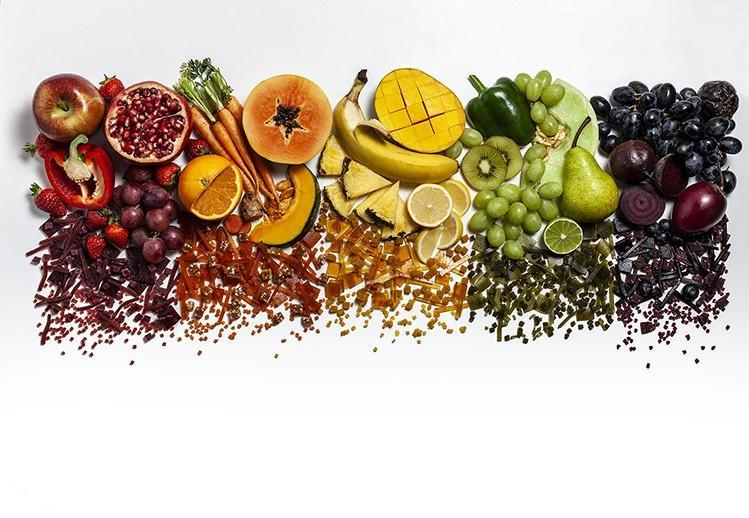apple: (32, 71, 105, 141)
